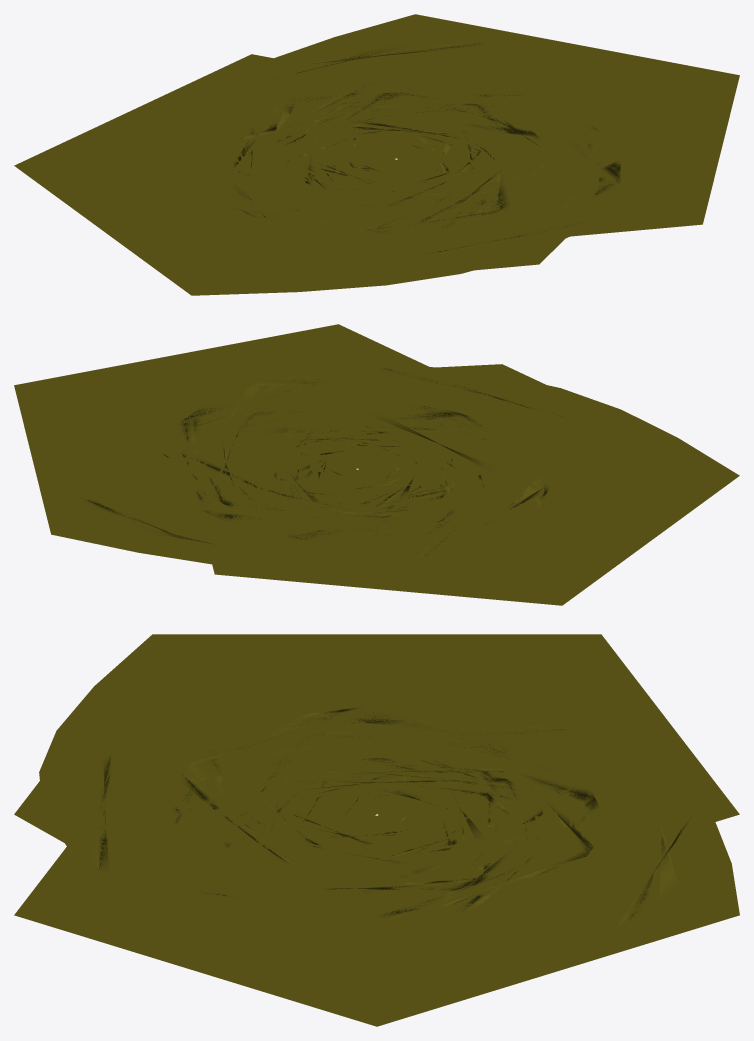
Rendered from Bush_01.fbx.
The picture shows the model from 3 angles, top to bottom: view 1: azimuth 30°, elevation 25°; view 2: azimuth 150°, elevation 25°; view 3: azimuth 270°, elevation 25°; orthographic projection. The views are drawn at different scales.
Parts seen in each view (by area): view 1: Bush_01; view 2: Bush_01; view 3: Bush_01.
Boxes of the visible parts, x1,y1,x2,y2 form: Bush_01: [14, 14, 739, 295]; Bush_01: [14, 324, 739, 605]; Bush_01: [14, 634, 739, 1026].
Bounding box in the file's own units: 156 × 0 × 122.
